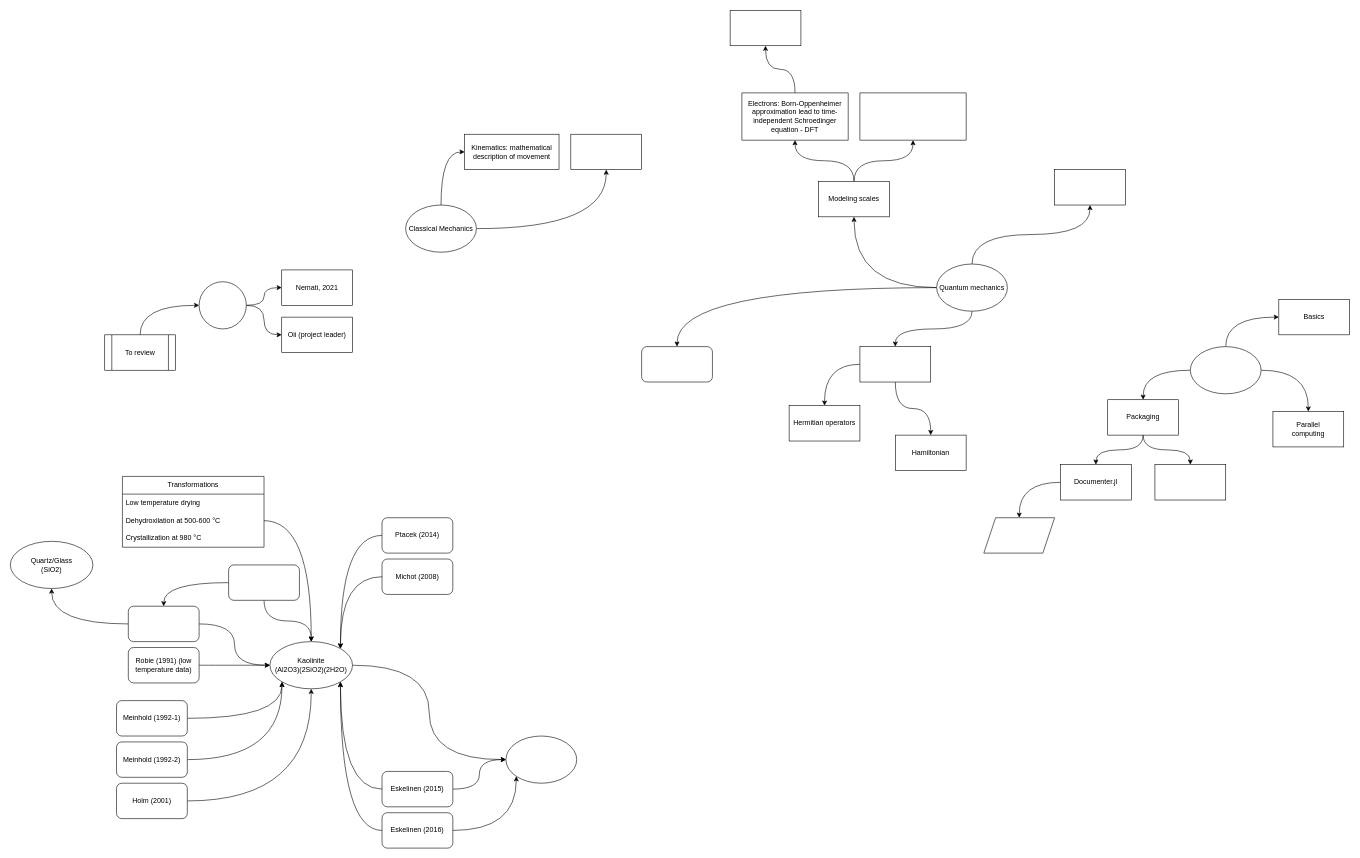
Image size: 1360x858. Some labels were removed from this diagram. The shapes that lost their labels are listed below. From the top down, each one's centre as x and y in pixels, then its label:
At point (765, 28): "For DFT: need operators position and momentum".
At point (912, 116): "Ions are represented in the framework of classical mechanics - MD".
At point (606, 152): "Dynamics: explanation of movement origins".
At point (1089, 187): "Molecules energy: translation, rotation, vibration, electrons".
At point (222, 305): "Granular heat transfer".
At point (676, 364): "Karplus (1970), Atoms and Molecules".
At point (895, 364): "Concepts".
At point (1225, 370): "Julia".
At point (1190, 482): "Pkg.jl".
At point (1019, 535): "GitHub Actions".
At point (263, 582): "Nicholson (1970)".
At point (163, 624): "Schieltz (1964)".
At point (541, 759): "Multiple-hearth furnace".
